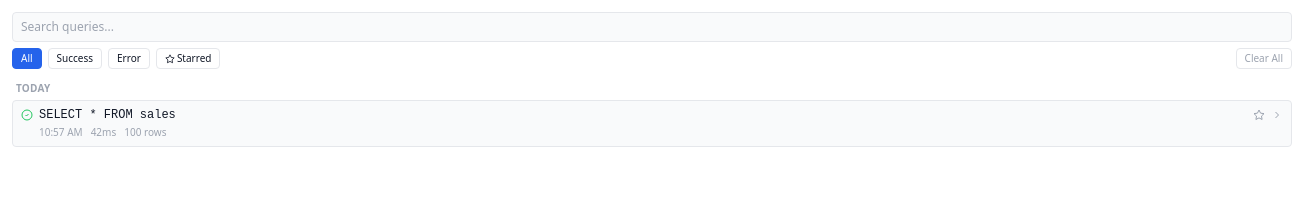
Test case: QH-3: Clicking entry expands full SQL › collapses when clicked again
The width and height of the screenshot is (1304, 224).
Click the button with test id "query-history-entry-toggle".
click(107, 115)  # box [13,101,1291,146]
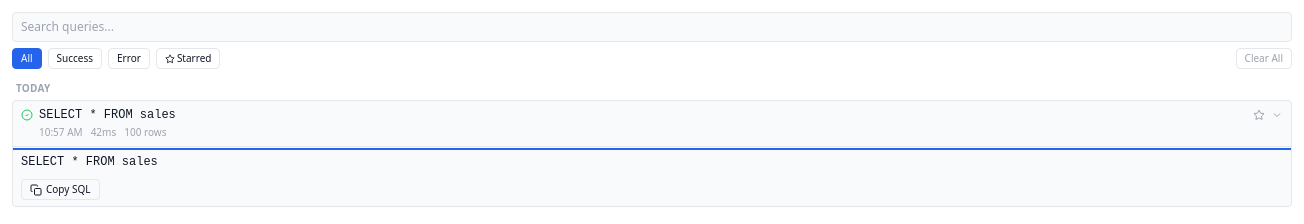
Expected: the element with test id "query-history-entry-expanded" is shown, [13,146,1291,206]
Click the button with test id "query-history-entry-toggle".
click(107, 115)  # box [13,101,1291,146]
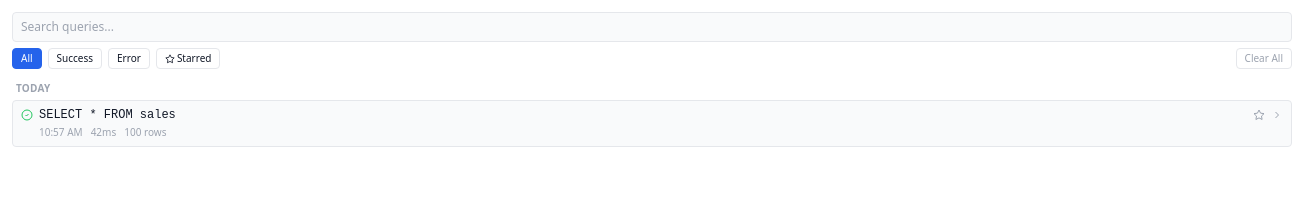
Expected: the element with test id "query-history-entry-expanded" is gone
